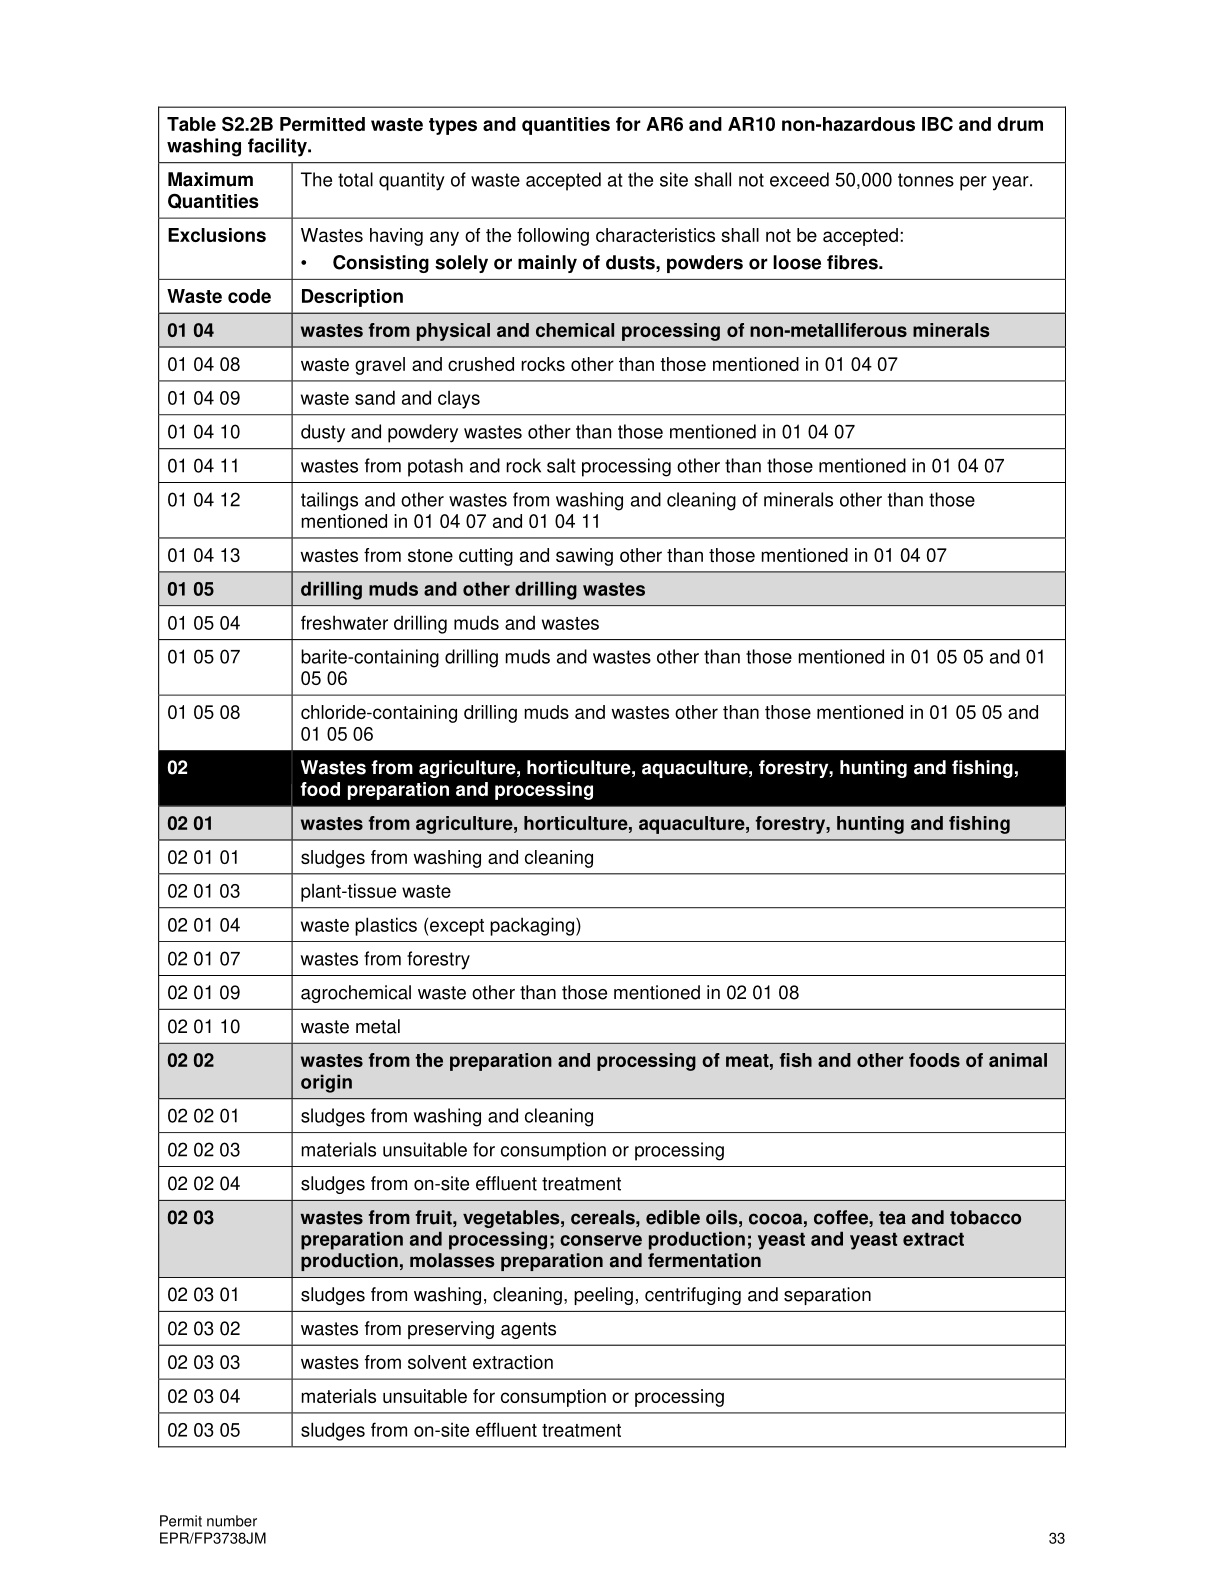merged_cells: (156, 105, 1067, 1448)
